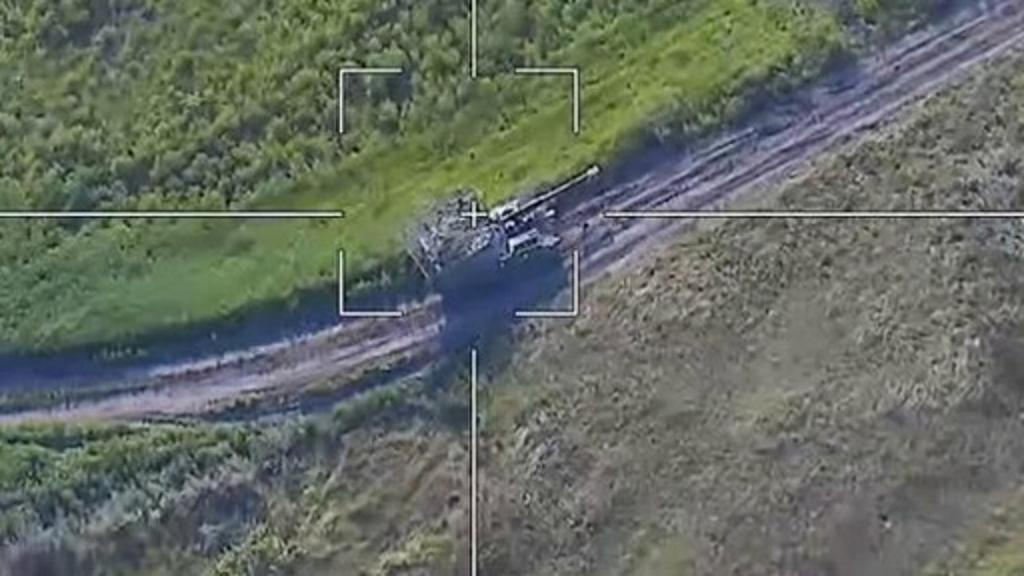ART: (400, 158, 604, 298)
